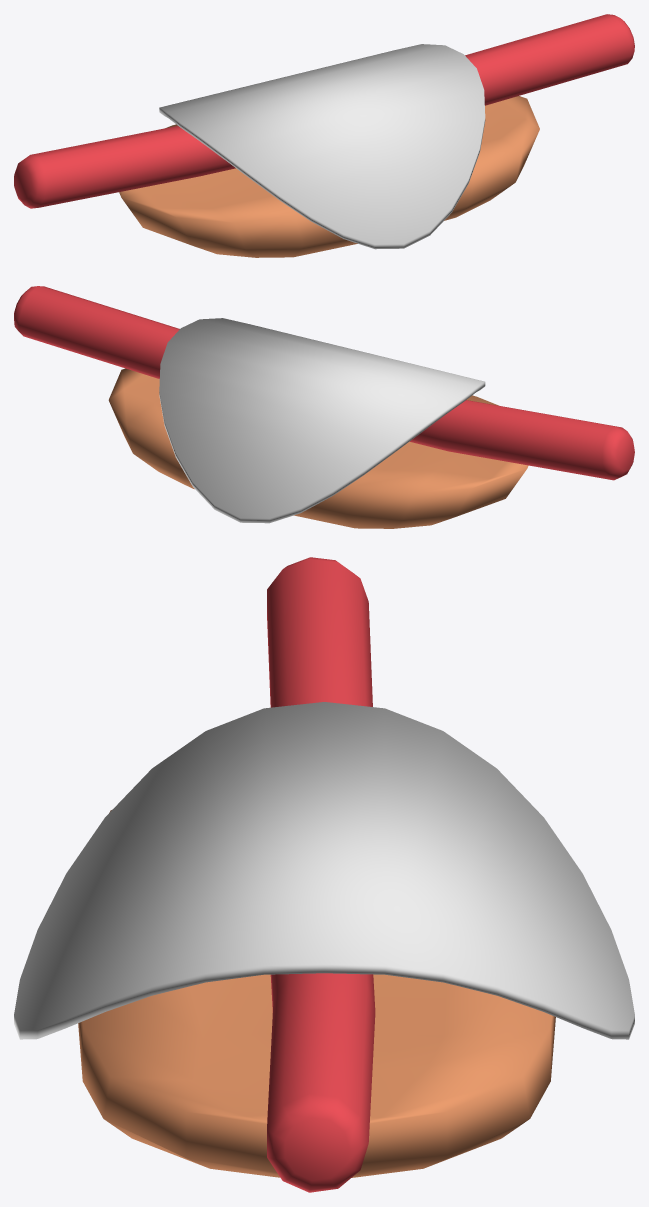
File: Gourmet.fbx
The picture shows the model from 3 angles, top to bottom: view 1: azimuth 30°, elevation 25°; view 2: azimuth 150°, elevation 25°; view 3: azimuth 270°, elevation 25°; orthographic projection. The views are drawn at different scales.
Visible parts, largest first — view 1: Circle, Cylinder, Cube; view 2: Circle, Cylinder, Cube; view 3: Circle, Cube, Cylinder.
Part boxes in pixels (x1=…): Circle: x1=159, y1=44, x2=485, y2=249; Cylinder: x1=14, y1=14, x2=634, y2=208; Cube: x1=119, y1=96, x2=539, y2=257; Circle: x1=159, y1=318, x2=485, y2=523; Cylinder: x1=14, y1=286, x2=634, y2=480; Cube: x1=108, y1=368, x2=528, y2=528; Circle: x1=14, y1=702, x2=634, y2=1039; Cube: x1=78, y1=810, x2=555, y2=1177; Cylinder: x1=267, y1=557, x2=375, y2=1192.
Size of the model in its own units: 59.19 by 13.05 by 27.54.
